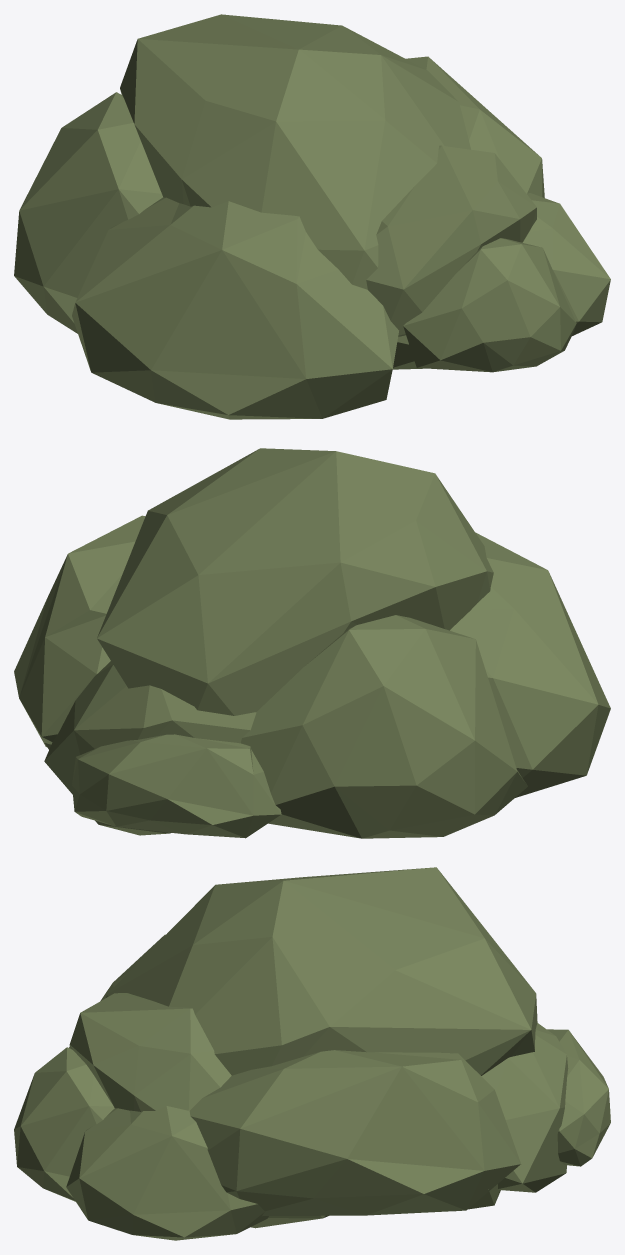
The model's file is bush_LRG.fbx.
3 views of the same model, one above another, from view 1: azimuth 30°, elevation 25°; view 2: azimuth 150°, elevation 25°; view 3: azimuth 270°, elevation 25° (orthographic). The views are drawn at different scales.
Parts seen in each view (by area): view 1: bush_LRG; view 2: bush_LRG; view 3: bush_LRG.
Boxes of the visible parts, x1,y1,x2,y2 form: bush_LRG: [14, 14, 610, 419]; bush_LRG: [14, 448, 610, 838]; bush_LRG: [14, 867, 610, 1240].
Bounding box in the file's own units: 1.82 × 1.14 × 2.05.
